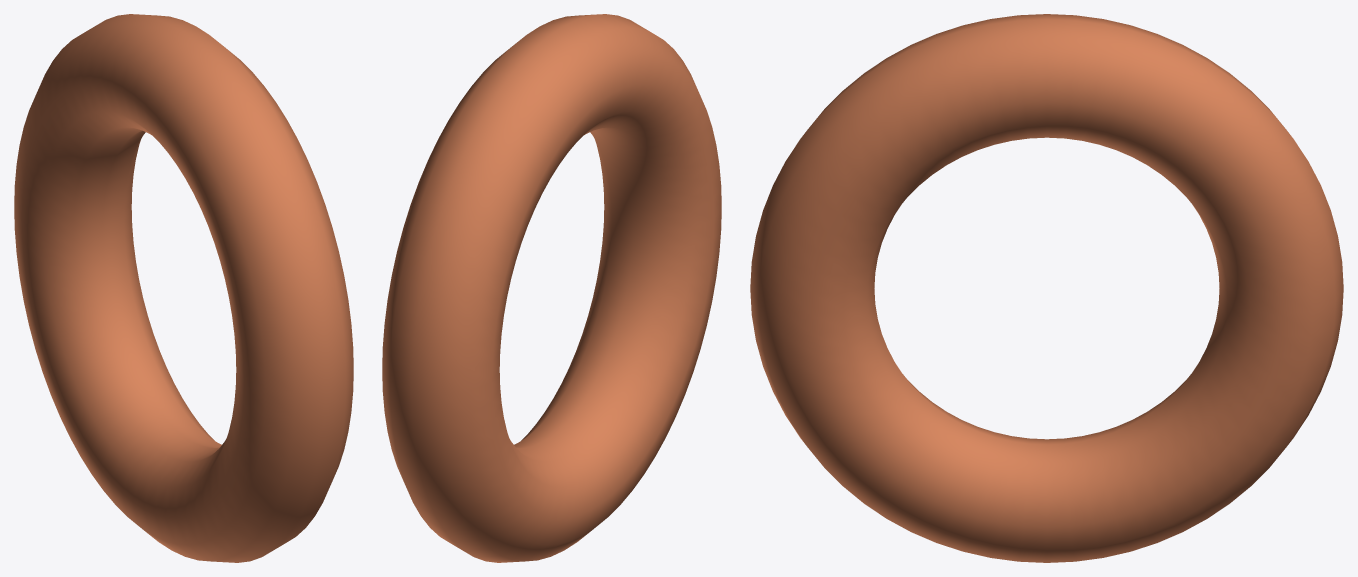
File: Boat_Lifering.glb
3 views of the same model, side by side, from view 1: azimuth 30°, elevation 25°; view 2: azimuth 150°, elevation 25°; view 3: azimuth 270°, elevation 25° (orthographic). The views are drawn at different scales.
Visible parts, largest first — view 1: Boat_Lifering; view 2: Boat_Lifering; view 3: Boat_Lifering.
Part boxes in pixels (x1=…): Boat_Lifering: x1=14, y1=14, x2=353, y2=562; Boat_Lifering: x1=382, y1=14, x2=721, y2=562; Boat_Lifering: x1=750, y1=14, x2=1343, y2=562.
Size of the model in its own units: 0.18 by 0.86 by 0.86.
